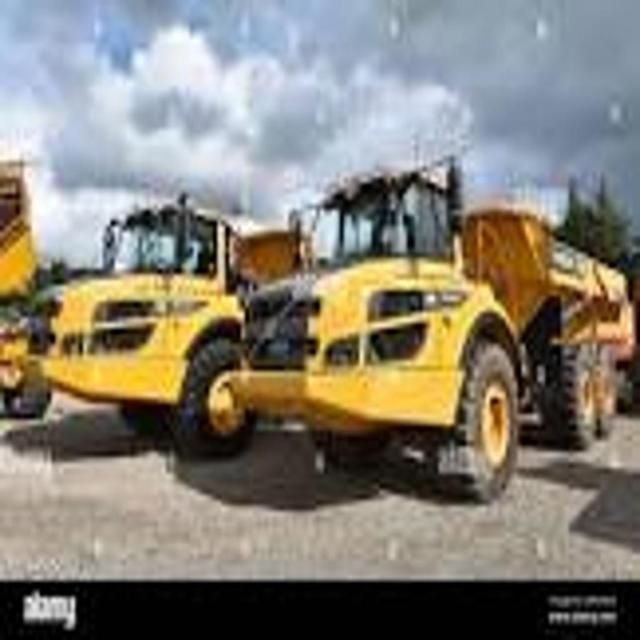dump_truck: (233, 150, 636, 500), (34, 153, 246, 467)
